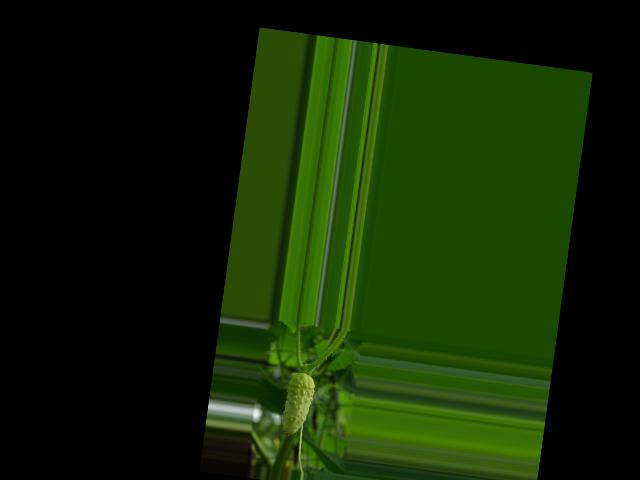cucumber: (281, 371, 317, 439)
